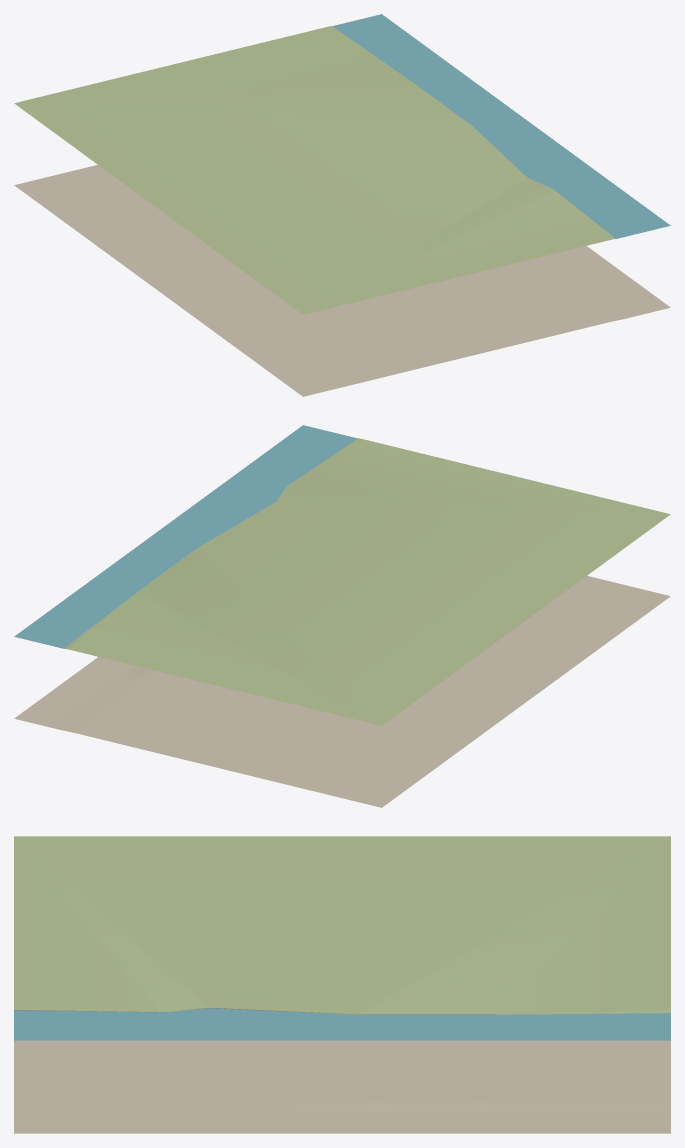
The picture shows the model from 3 angles, top to bottom: view 1: azimuth 30°, elevation 25°; view 2: azimuth 150°, elevation 25°; view 3: azimuth 270°, elevation 25°; orthographic projection. The views are drawn at different scales.
Visible parts, largest first — view 1: s_-13_5__grass, s_-13_5__soil, s_-13_5__water; view 2: s_-13_5__grass, s_-13_5__soil, s_-13_5__water; view 3: s_-13_5__grass, s_-13_5__soil, s_-13_5__water.
Boxes of the visible parts, bbox=[...] form: s_-13_5__grass: bbox=[14, 26, 615, 314]; s_-13_5__soil: bbox=[14, 165, 670, 396]; s_-13_5__water: bbox=[332, 14, 670, 238]; s_-13_5__grass: bbox=[64, 438, 670, 725]; s_-13_5__soil: bbox=[14, 576, 670, 807]; s_-13_5__water: bbox=[14, 425, 357, 648]; s_-13_5__grass: bbox=[14, 836, 670, 1014]; s_-13_5__soil: bbox=[14, 1009, 670, 1133]; s_-13_5__water: bbox=[14, 1008, 670, 1040].
Size of the model in its own units: 94 by 20.14 by 128.
